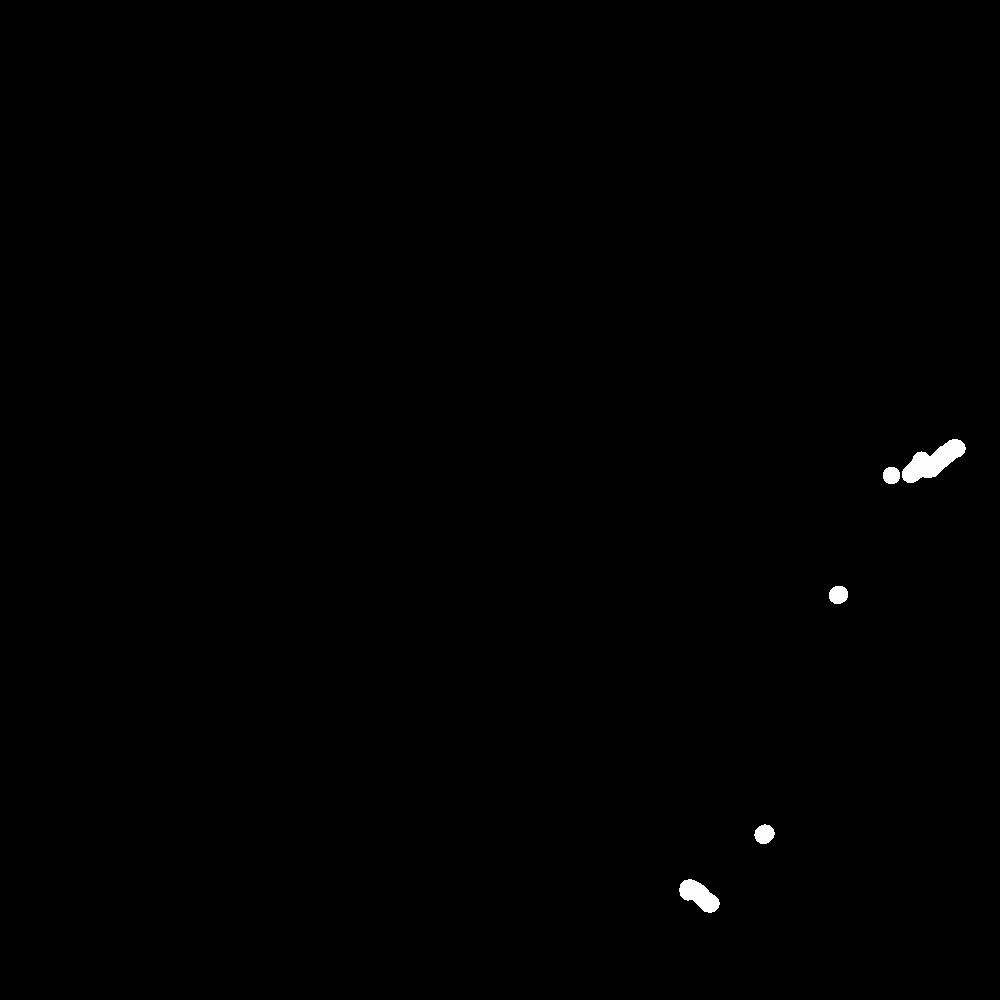illegal: (912, 439, 967, 475), (825, 579, 853, 607)
